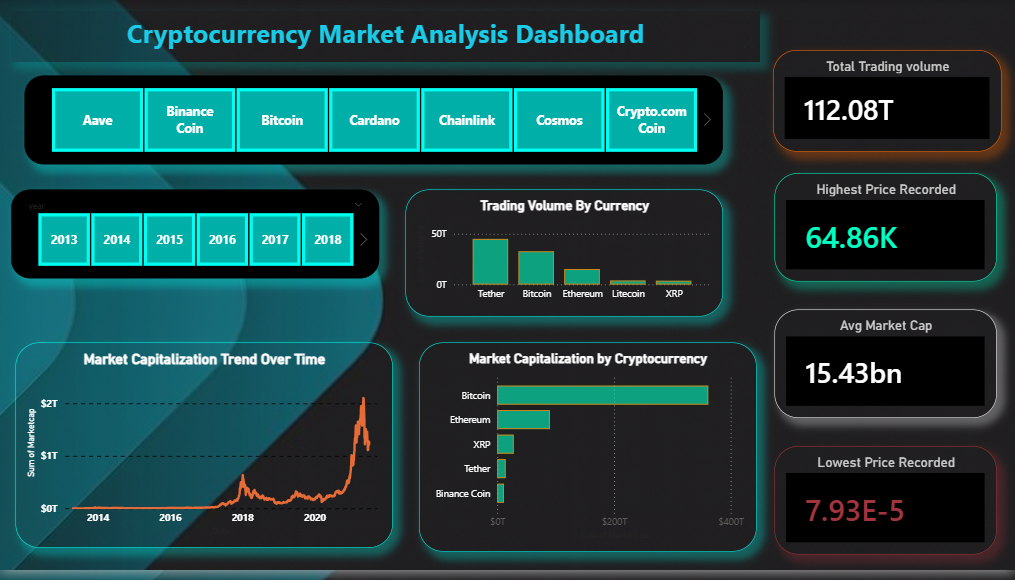

What the dashboard file says about the page in this screenshot:
{"tool":"powerbi","page":{"name":"Page 1","canvas":[1280,720],"ordinal":0},"visuals":[{"type":"slicer","fields":{"Values":["crypto.Name"]},"box":[32,96,880,112],"z":0},{"type":"slicer","fields":{"Values":["crypto.year"]},"box":[16,240,464,112],"z":1000},{"type":"lineChart","title":"Market Capitalization Trend Over Time","fields":{"Category":["crypto.Date"],"Y":["Sum(crypto.Marketcap)"]},"box":[20,433.3,475,258.3],"z":2000},{"type":"textbox","box":[16,16,944,64],"z":3000},{"type":"cardVisual","title":"Highest Price Recorded","fields":{"Data":["Max(crypto.High)"]},"box":[976.7,220,280,136.7],"z":4000},{"type":"cardVisual","title":"Total Trading volume","fields":{"Data":["Sum(crypto.Volume)"]},"box":[976,64,288,128],"z":5000},{"type":"cardVisual","title":"Avg Market Cap","fields":{"Data":["Avg(crypto.Marketcap)"]},"box":[976.7,391.7,280,136.7],"z":6000},{"type":"cardVisual","title":"Lowest Price Recorded","fields":{"Data":["Min(crypto.Low)"]},"box":[976.7,563.3,280,136.7],"z":7000},{"type":"clusteredBarChart","title":"Market Capitalization by Cryptocurrency","fields":{"Category":["crypto.Name"],"Y":["Sum(crypto.Marketcap)"]},"box":[528.3,433.3,425,263.3],"z":8000},{"type":"columnChart","title":"Trading Volume By Currency","fields":{"Category":["crypto.Name"],"Y":["Sum(crypto.Volume)"]},"box":[512,240,400,160],"z":9000}]}

Visuals, with their boxes in screenshot pixels (x1, y1, x2, y2), scaled from the page's 1280x720 canvas onto the 1015x580 screenshot:
slicer - crypto.Name: region(25, 77, 723, 168)
slicer - crypto.year: region(13, 193, 381, 284)
"Market Capitalization Trend Over Time" lineChart: region(16, 349, 393, 557)
textbox: region(13, 13, 761, 64)
"Highest Price Recorded" cardVisual: region(774, 177, 997, 287)
"Total Trading volume" cardVisual: region(774, 52, 1002, 155)
"Avg Market Cap" cardVisual: region(774, 316, 997, 426)
"Lowest Price Recorded" cardVisual: region(774, 454, 997, 564)
"Market Capitalization by Cryptocurrency" clusteredBarChart: region(419, 349, 756, 561)
"Trading Volume By Currency" columnChart: region(406, 193, 723, 322)
